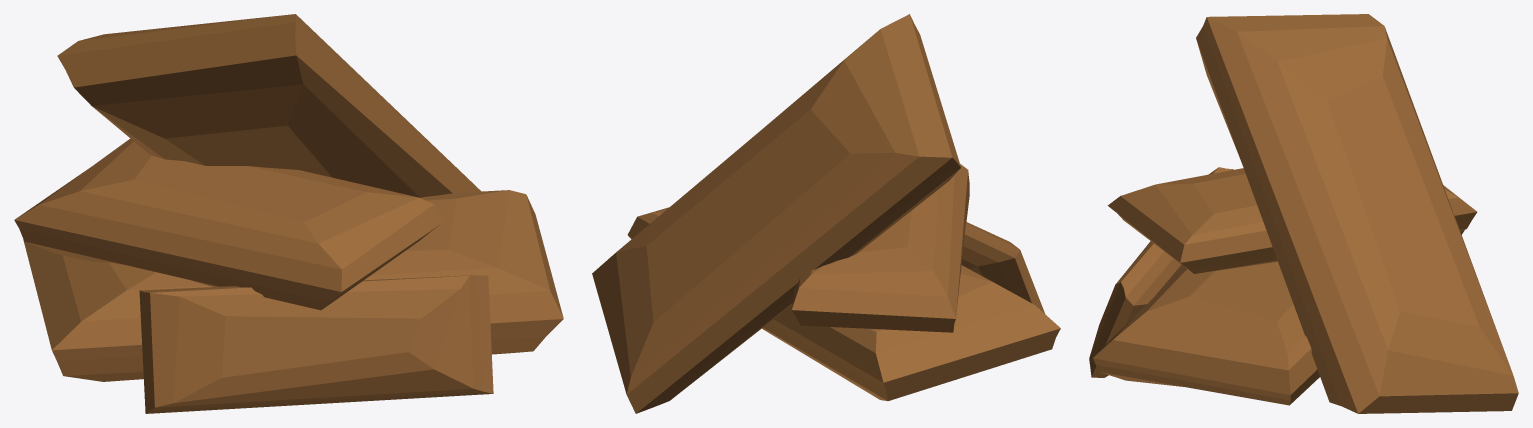
Rendered from rockGrouping.fbx.
The picture shows the model from 3 angles, left to right: view 1: azimuth 30°, elevation 25°; view 2: azimuth 150°, elevation 25°; view 3: azimuth 270°, elevation 25°; orthographic projection. The views are drawn at different scales.
Parts seen in each view (by area): view 1: Rock.001, Rock.002, Rock.003, Rock; view 2: Rock.001, Rock, Rock.002, Rock.003; view 3: Rock.001, Rock, Rock.002, Rock.003.
Boxes of the visible parts, <box> form: Rock.001: <box>57,14,481,197</box>; Rock.002: <box>14,138,444,310</box>; Rock.003: <box>139,275,493,413</box>; Rock: <box>23,190,563,381</box>; Rock.001: <box>592,14,960,413</box>; Rock: <box>627,207,1060,401</box>; Rock.002: <box>791,164,969,332</box>; Rock.003: <box>961,222,1044,313</box>; Rock.001: <box>1196,14,1518,413</box>; Rock: <box>1093,230,1464,405</box>; Rock.002: <box>1107,168,1477,273</box>; Rock.003: <box>1089,167,1233,377</box>.
Size of the model in its own units: 1069 by 783 by 920.
